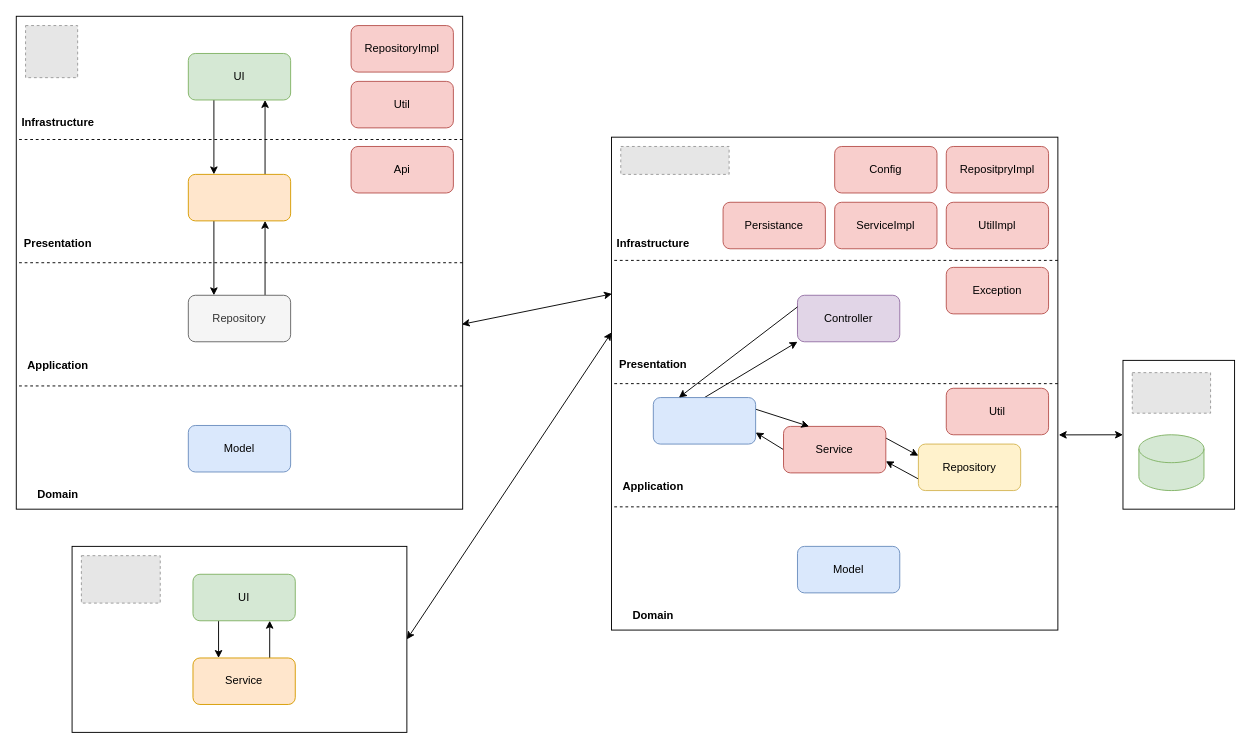
Image size: 1251x749. Some labels were removed from this diagram. Grey dashed boxes stand in for pictures. Each missing label, with the box of its shape:
Database: (1138, 434, 1204, 491)
Usecase: (652, 397, 756, 444)
ViewModel: (187, 173, 291, 221)
